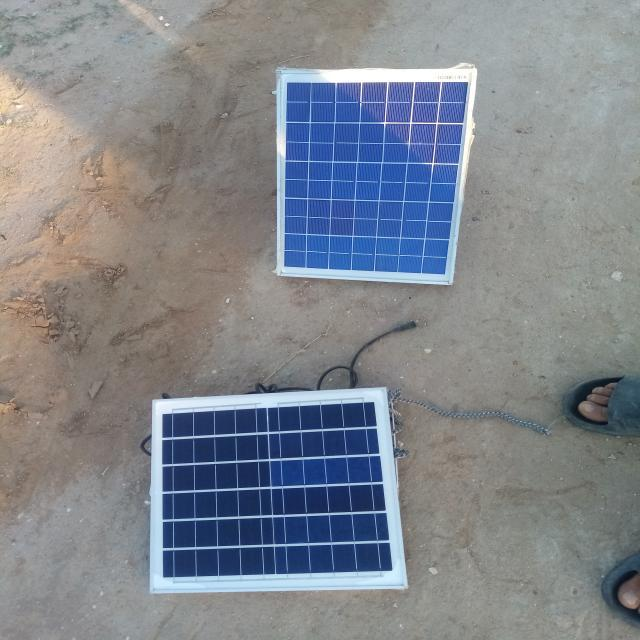no faulty: (152, 389, 406, 591), (277, 71, 474, 283)
